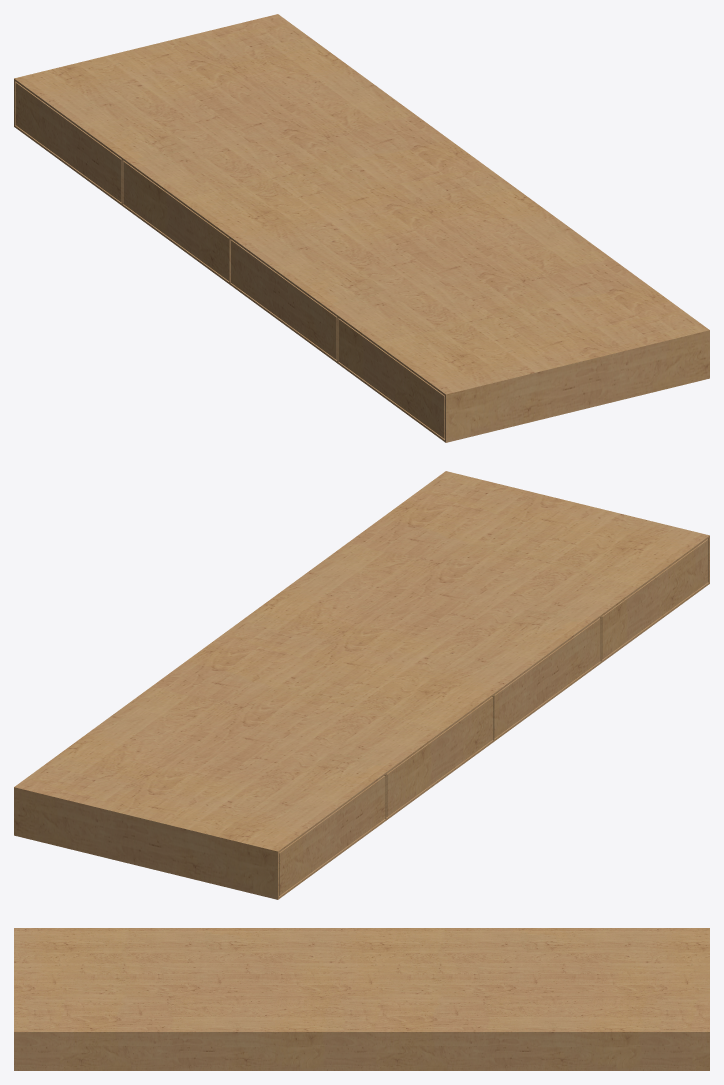
Rendered from SM_Desk_1.fbx.
3 renders of one model, top to bottom at view 1: azimuth 30°, elevation 25°; view 2: azimuth 150°, elevation 25°; view 3: azimuth 270°, elevation 25°, orthographic. The views are drawn at different scales.
Parts seen in each view (by area): view 1: SM_Desk_1; view 2: SM_Desk_1; view 3: SM_Desk_1.
Boxes of the visible parts, <box> form: SM_Desk_1: <box>14,14,709,442</box>; SM_Desk_1: <box>14,471,709,899</box>; SM_Desk_1: <box>14,928,709,1070</box>.
Size of the model in its own units: 0.6 by 0.105 by 1.7.
1 material, 1 textured.
